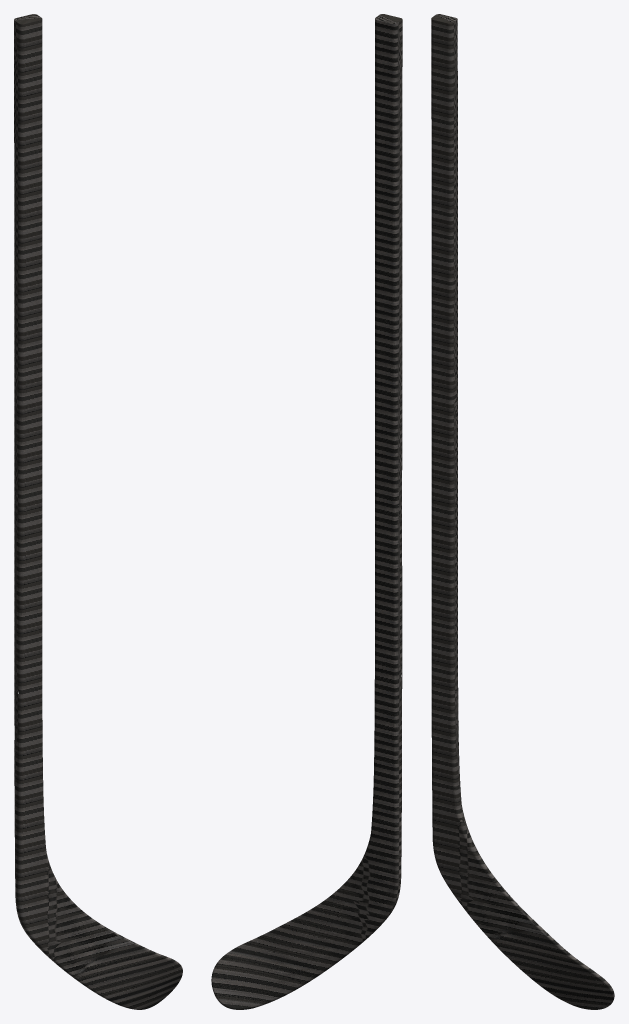
3 renders of one model, left to right at view 1: azimuth 30°, elevation 25°; view 2: azimuth 150°, elevation 25°; view 3: azimuth 330°, elevation 25°, orthographic. The views are drawn at different scales.
Parts seen in each view (by area): view 1: geometry_0; view 2: geometry_0; view 3: geometry_0.
Boxes of the visible parts, x1=… form: geometry_0: x1=14, y1=14, x2=182, y2=1009; geometry_0: x1=211, y1=14, x2=402, y2=1009; geometry_0: x1=431, y1=14, x2=614, y2=1009.
Size of the model in its own units: 230 by 1269 by 51.32.
Materials: 1 (1 with a texture image).
